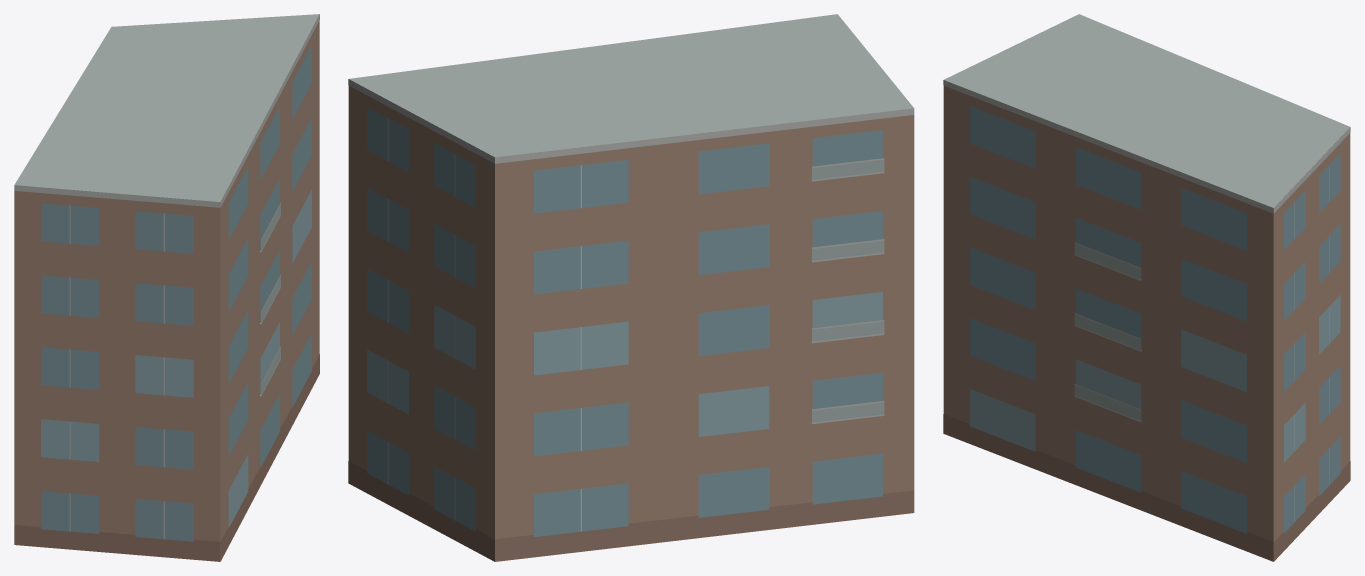
The model's file is survey-upis-32779174.glb.
3 views of the same model, side by side, from view 1: azimuth 30°, elevation 25°; view 2: azimuth 150°, elevation 25°; view 3: azimuth 270°, elevation 25° (orthographic). The views are drawn at different scales.
Visible parts, largest first — view 1: survey-upis-32779174.tmp; view 2: survey-upis-32779174.tmp; view 3: survey-upis-32779174.tmp.
Part boxes in pixels (bbox=[...]): survey-upis-32779174.tmp: bbox=[14, 14, 319, 561]; survey-upis-32779174.tmp: bbox=[348, 14, 914, 561]; survey-upis-32779174.tmp: bbox=[943, 14, 1350, 561].
Size of the model in its own units: 18.13 by 15.4 by 16.06.
